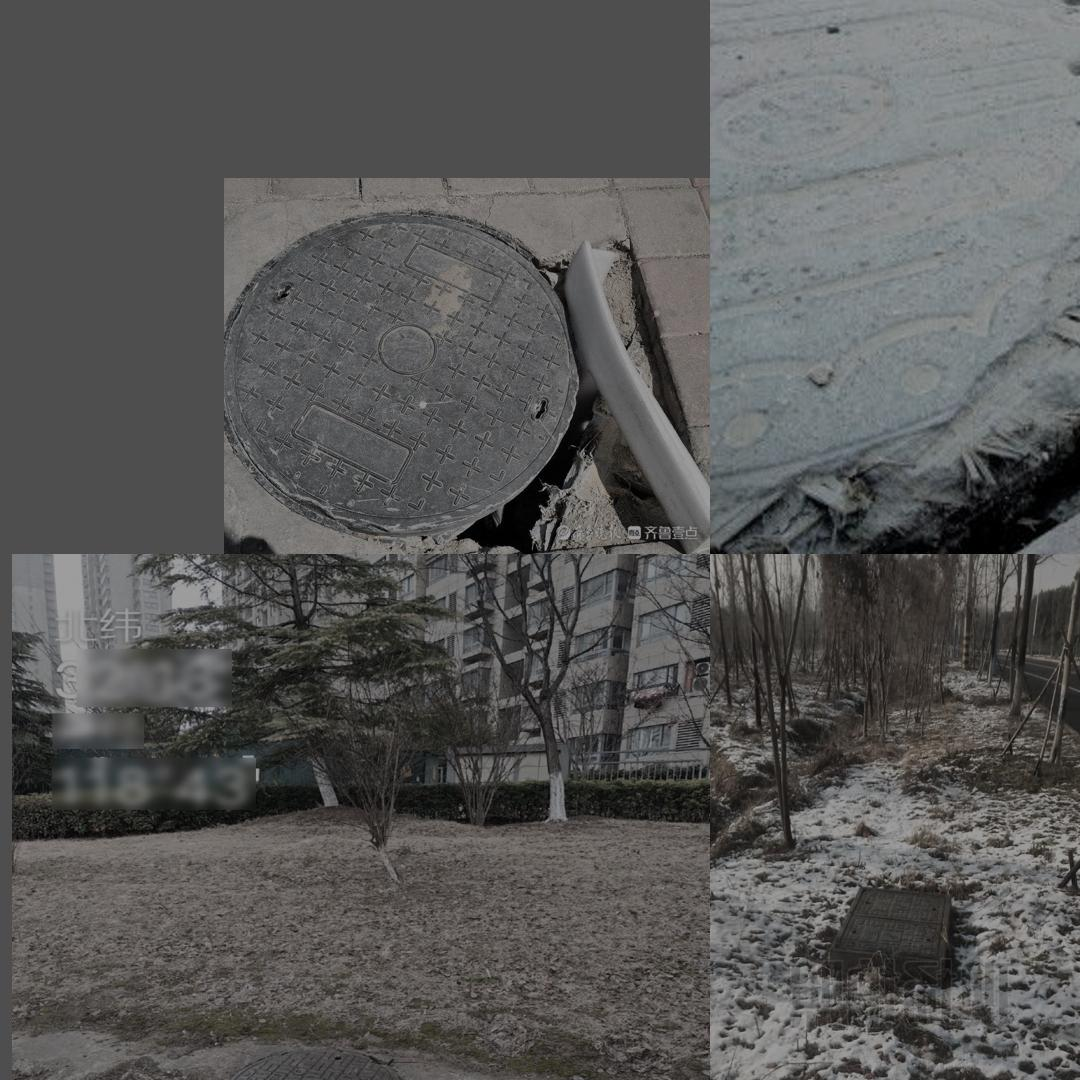circle: (722, 0, 1080, 534), (231, 213, 672, 543), (820, 886, 956, 993), (219, 1044, 410, 1080)
